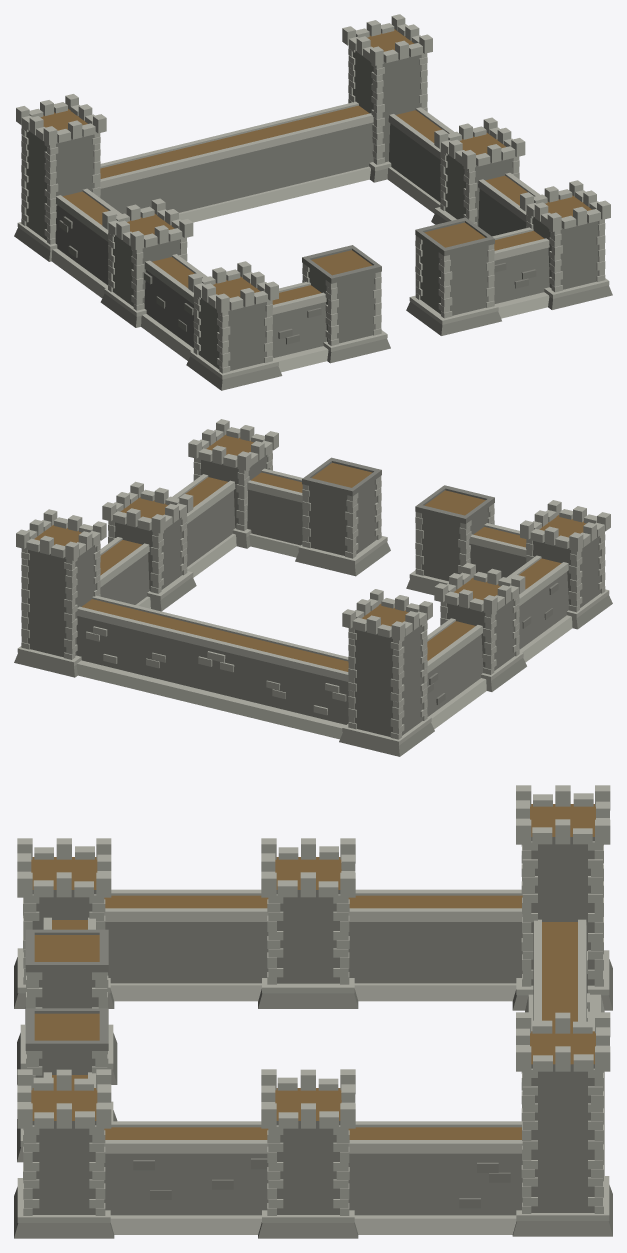
The model's file is wonderwalls_secondage_lev1.glb.
The picture shows the model from 3 angles, top to bottom: view 1: azimuth 30°, elevation 25°; view 2: azimuth 150°, elevation 25°; view 3: azimuth 270°, elevation 25°; orthographic projection. The views are drawn at different scales.
Visible parts, largest first — view 1: wonderwalls_secondage_lev1; view 2: wonderwalls_secondage_lev1; view 3: wonderwalls_secondage_lev1.
Boxes of the visible parts, bbox=[...] form: wonderwalls_secondage_lev1: bbox=[14, 14, 612, 390]; wonderwalls_secondage_lev1: bbox=[14, 419, 612, 756]; wonderwalls_secondage_lev1: bbox=[14, 785, 612, 1238].
Bounding box in the file's own units: 81.6 × 25.68 × 75.92.
